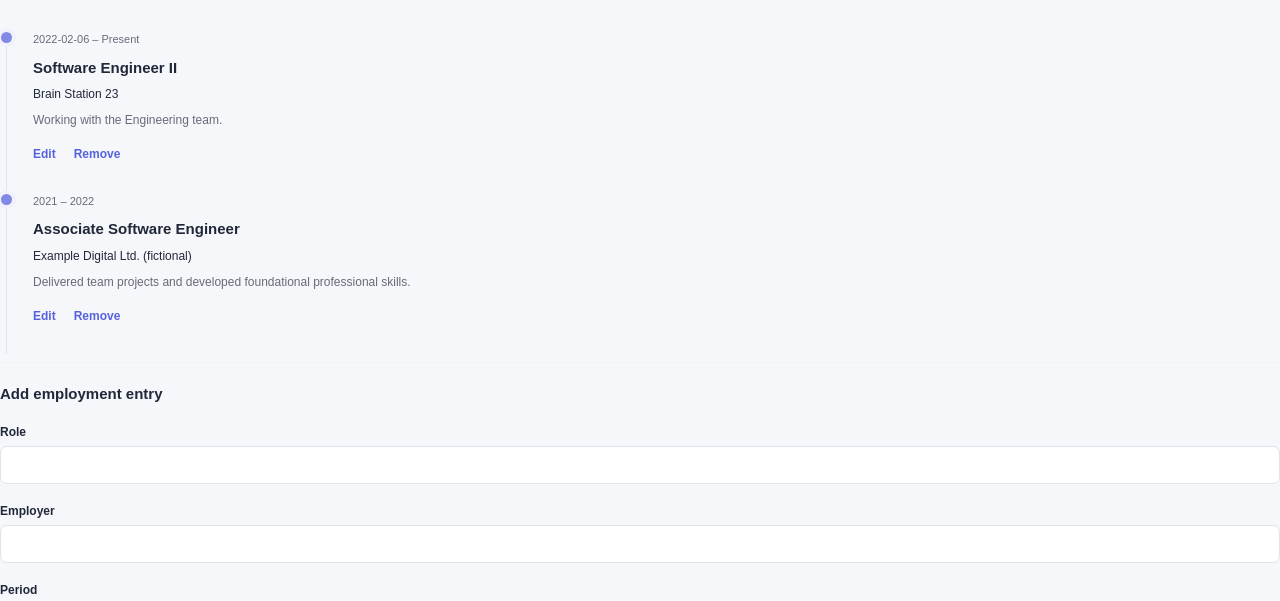
Scenario: EmploymentHistoryPanel (Story 7.3) › removes after confirmation and shows the message
Click the button "Remove" below "Example Digital Ltd. (fictional)" at (97, 316), box [74,303,120,329]
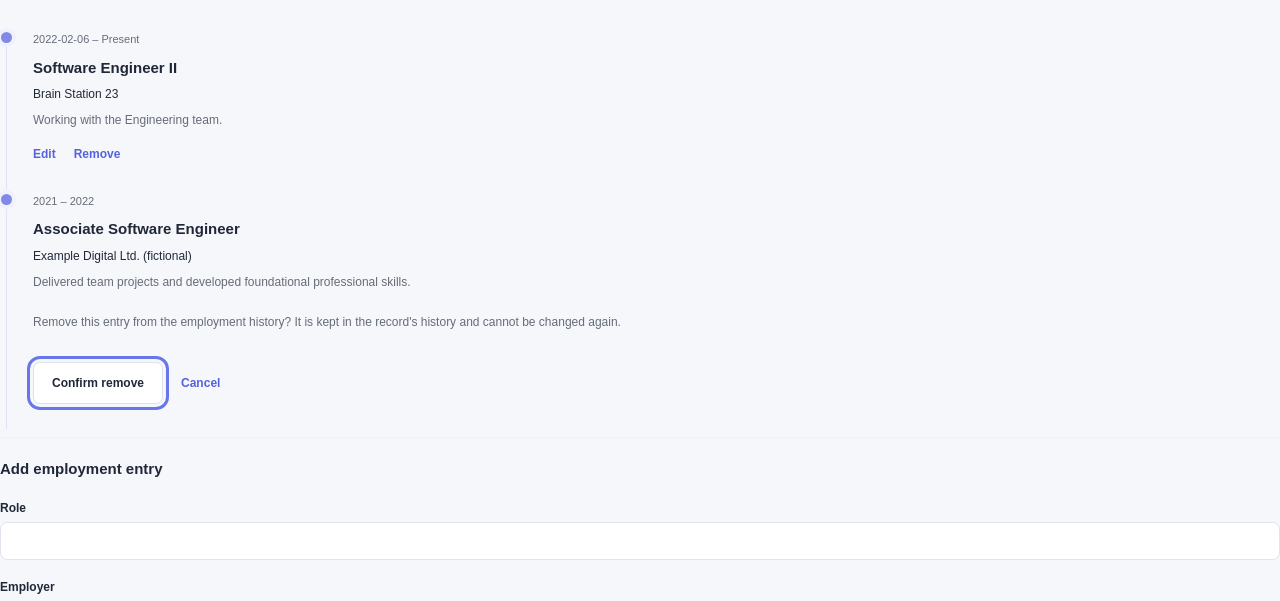
Press Enter
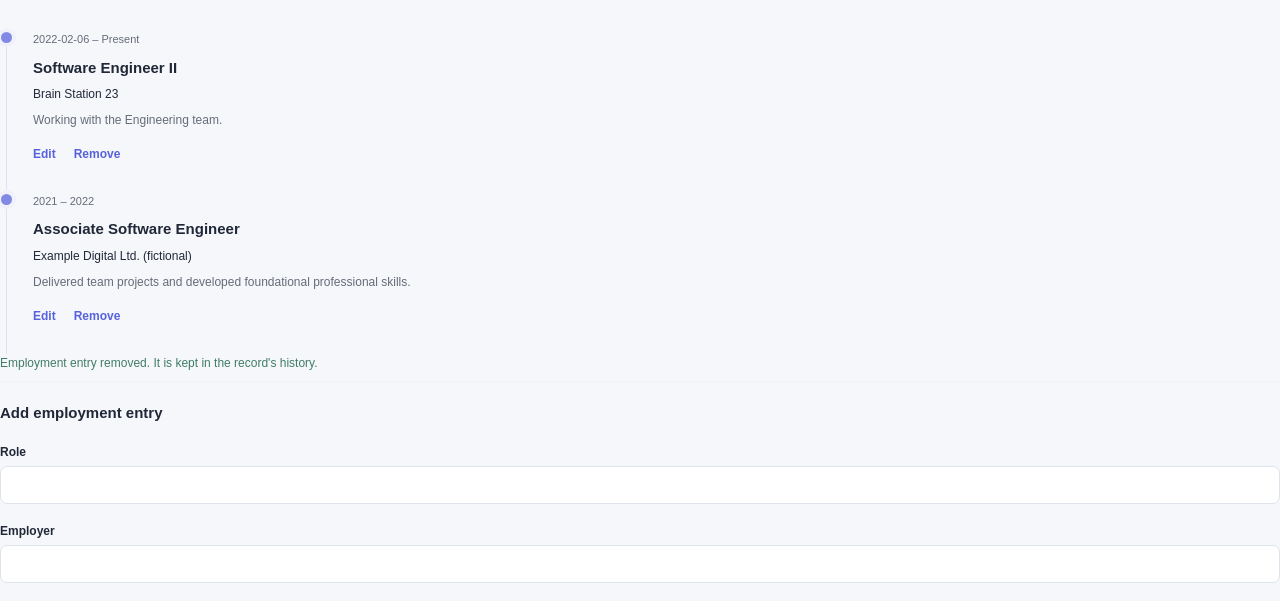
Check: the text "Employment entry removed. It is kept in the record's history." is shown, box [0,356,318,370]
